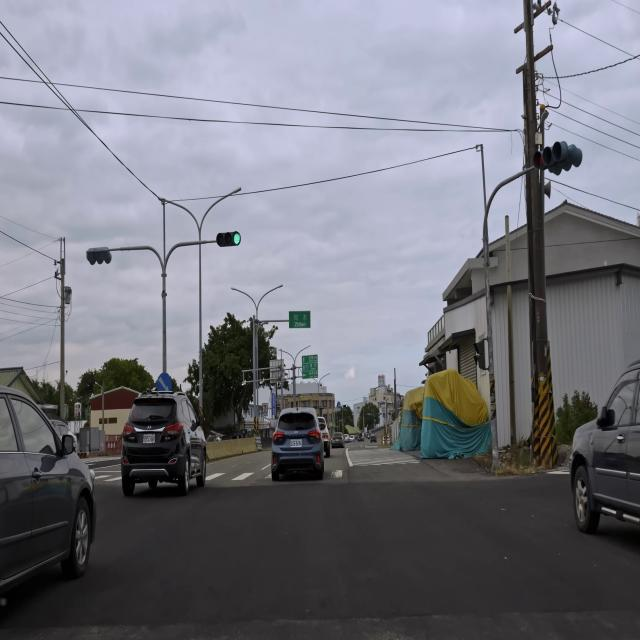green light: (216, 232, 241, 246)
